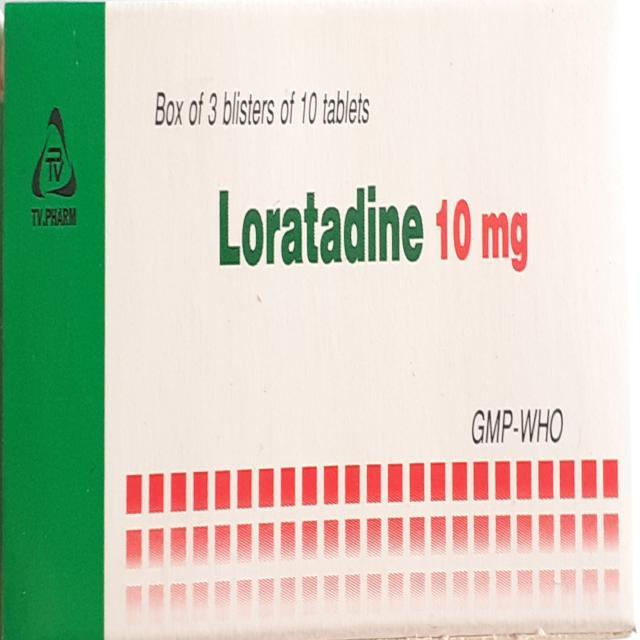drug-name: (209, 168, 533, 290)
